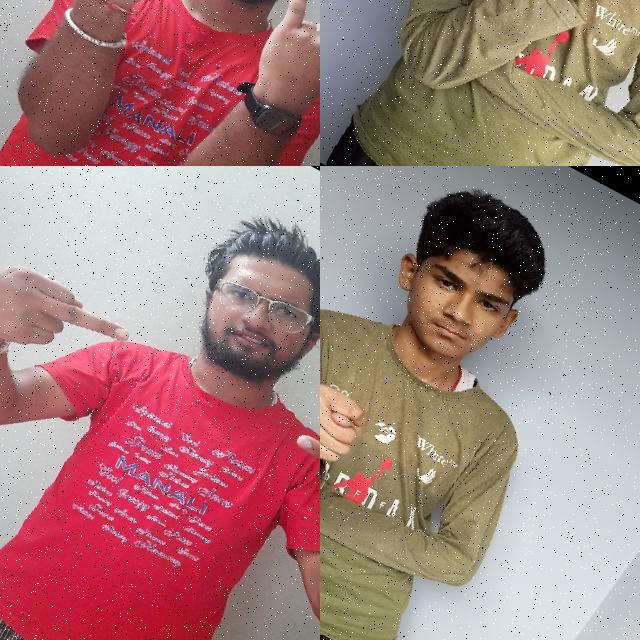Corna: (226, 0, 320, 144), (43, 0, 225, 48)
Dulya: (320, 364, 389, 505)
Middle Finger: (0, 225, 151, 411), (245, 396, 320, 578)
